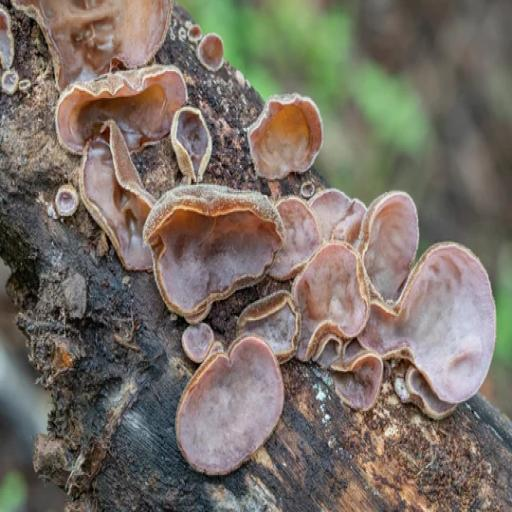Wood Ear Mushroom: (265, 184, 503, 427), (142, 177, 284, 312), (175, 340, 290, 478), (16, 0, 172, 86), (76, 115, 160, 268), (53, 63, 196, 151), (245, 94, 327, 177), (168, 104, 218, 187), (187, 21, 229, 68)
